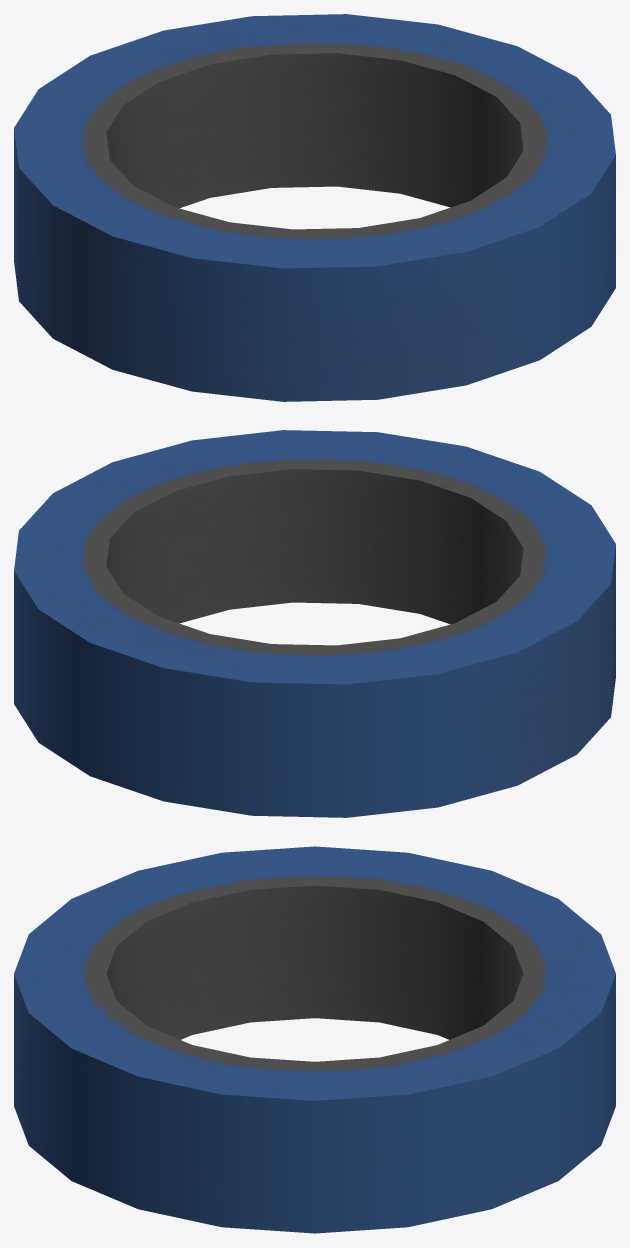
Rendered from tape.fbx.
3 renders of one model, top to bottom at view 1: azimuth 30°, elevation 25°; view 2: azimuth 150°, elevation 25°; view 3: azimuth 270°, elevation 25°, orthographic.
Parts seen in each view (by area): view 1: insulatingtape_Tools_0; view 2: insulatingtape_Tools_0; view 3: insulatingtape_Tools_0.
Boxes of the visible parts, x1=… form: insulatingtape_Tools_0: x1=14, y1=14, x2=615, y2=401; insulatingtape_Tools_0: x1=14, y1=430, x2=615, y2=817; insulatingtape_Tools_0: x1=14, y1=846, x2=615, y2=1233.
Bounding box in the file's own units: 592 × 144 × 592.
Materials: 1 (1 with a texture image).
